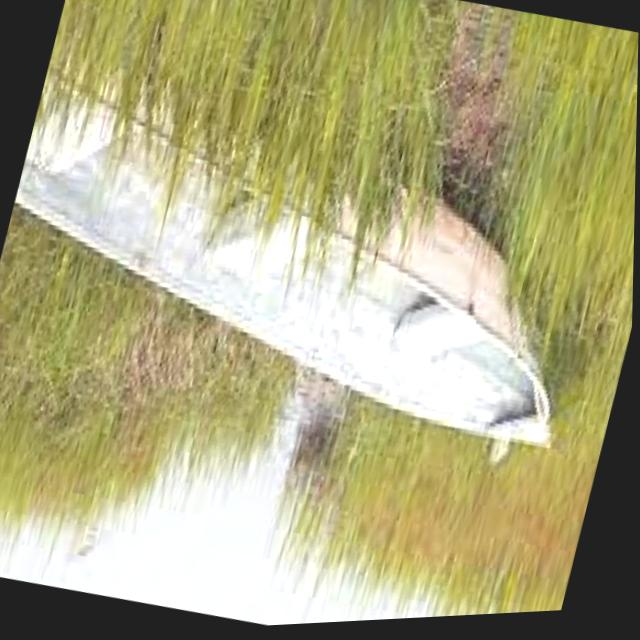ship2: (15, 104, 556, 450)
